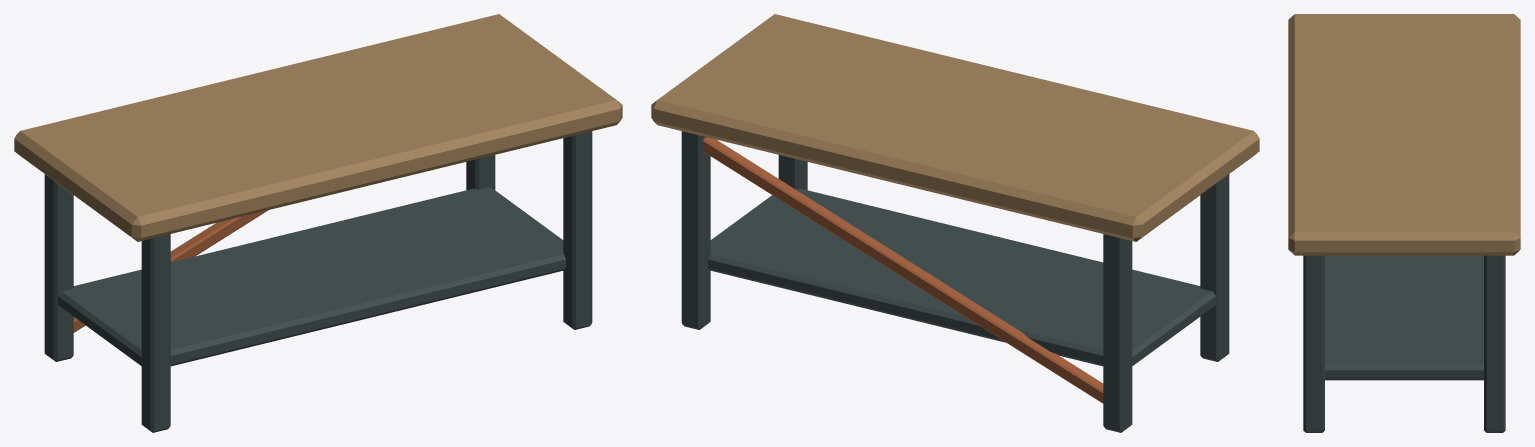
Rendered from Workbench.glb.
The picture shows the model from 3 angles, left to right: view 1: azimuth 30°, elevation 25°; view 2: azimuth 150°, elevation 25°; view 3: azimuth 270°, elevation 25°; orthographic projection. The views are drawn at different scales.
Parts seen in each view (by area): view 1: Workbench; view 2: Workbench; view 3: Workbench.
Boxes of the visible parts, bbox=[...] form: Workbench: bbox=[14, 14, 622, 432]; Workbench: bbox=[651, 14, 1259, 432]; Workbench: bbox=[1288, 14, 1520, 432].
Bounding box in the file's own units: 2.05 × 0.9 × 0.9.
